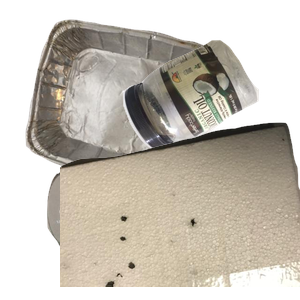glass: (44, 165, 178, 300)
metal: (23, 17, 236, 197)
plastic: (120, 37, 300, 185)
trash: (60, 120, 300, 300)
